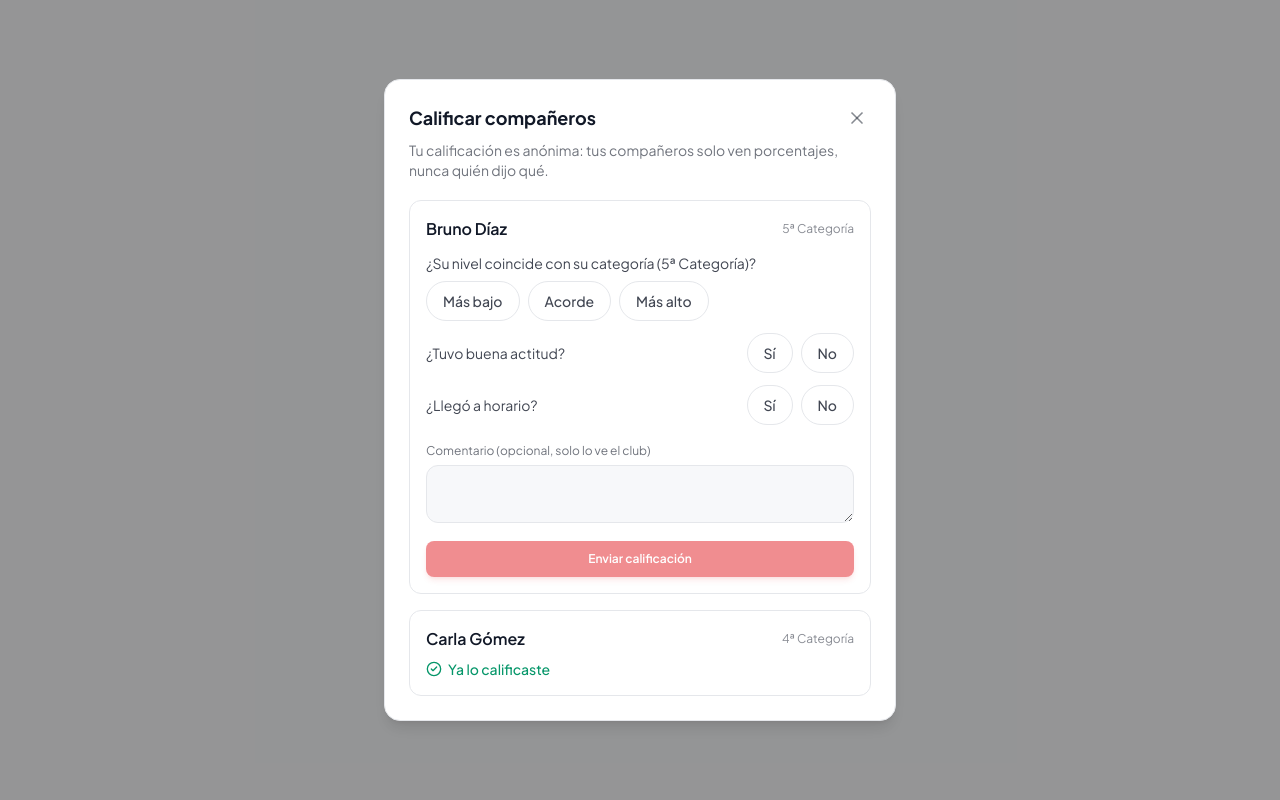
Test case: ReviewTeammatesModal › muestra el error si no se pudo guardar
Click the button "Acorde" at (569, 301), box [528,281,611,321]
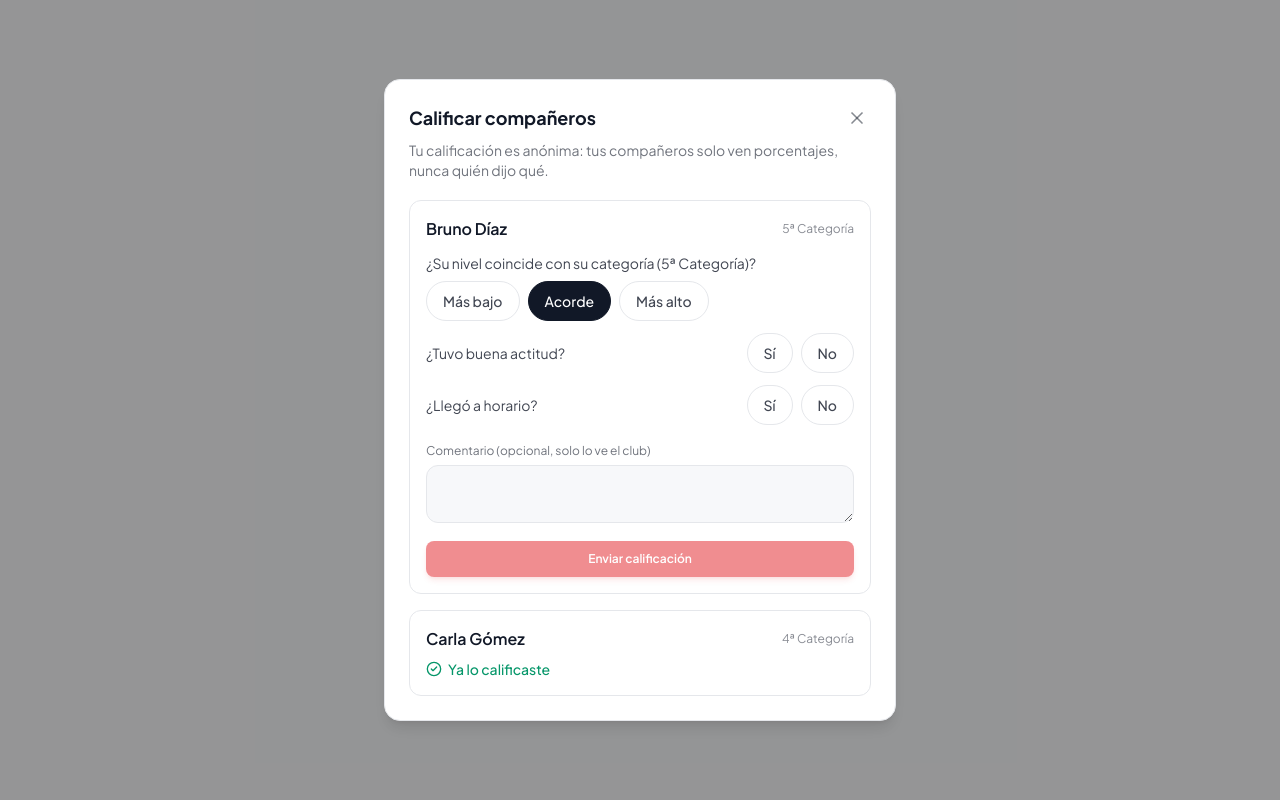
Click the button "Sí" in the row of "¿Tuvo buena actitud?" at (770, 353), box [746,333,792,373]
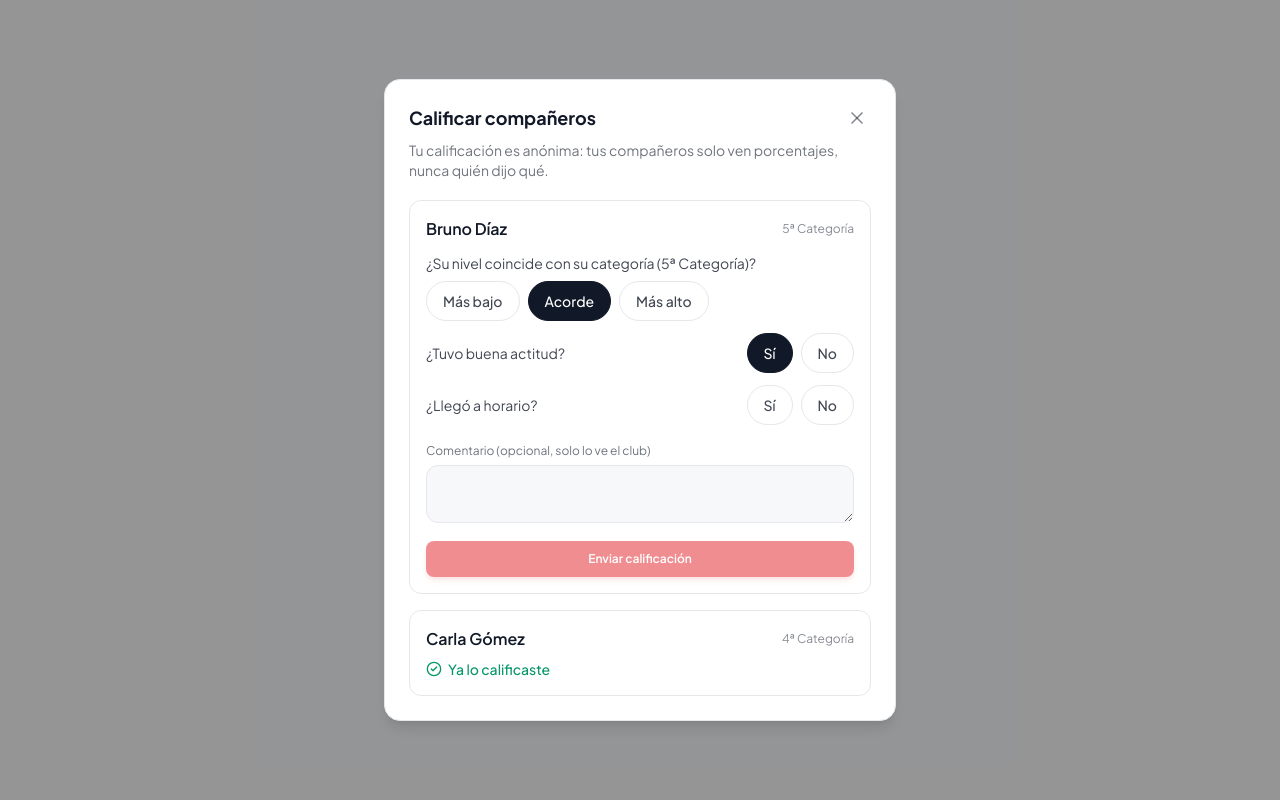
Click the button "Sí" in the row of "¿Llegó a horario?" at (770, 405), box [746,385,792,425]
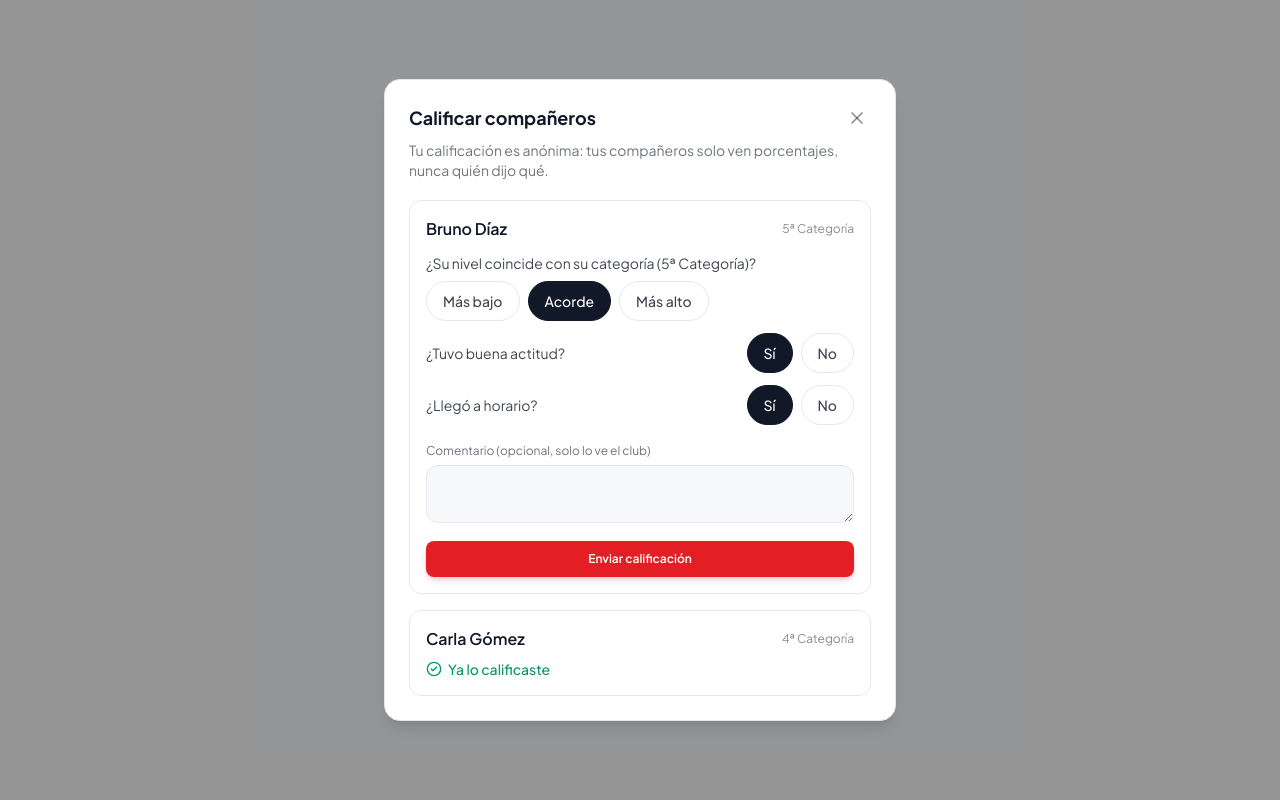
Click the button "Enviar calificación" at (640, 559), box [426,541,854,577]
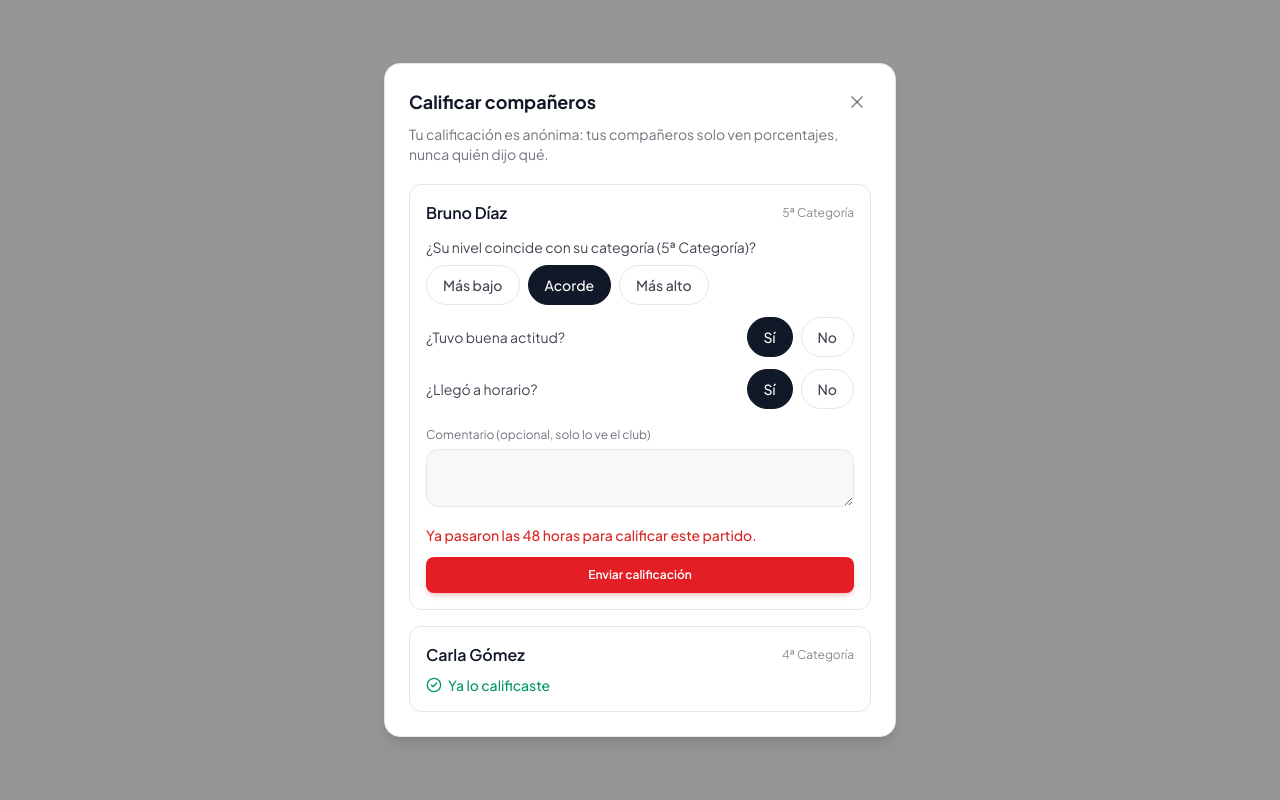
Check: the text "Ya pasaron las 48 horas para calificar este partido." is shown, box [426,526,757,544]
